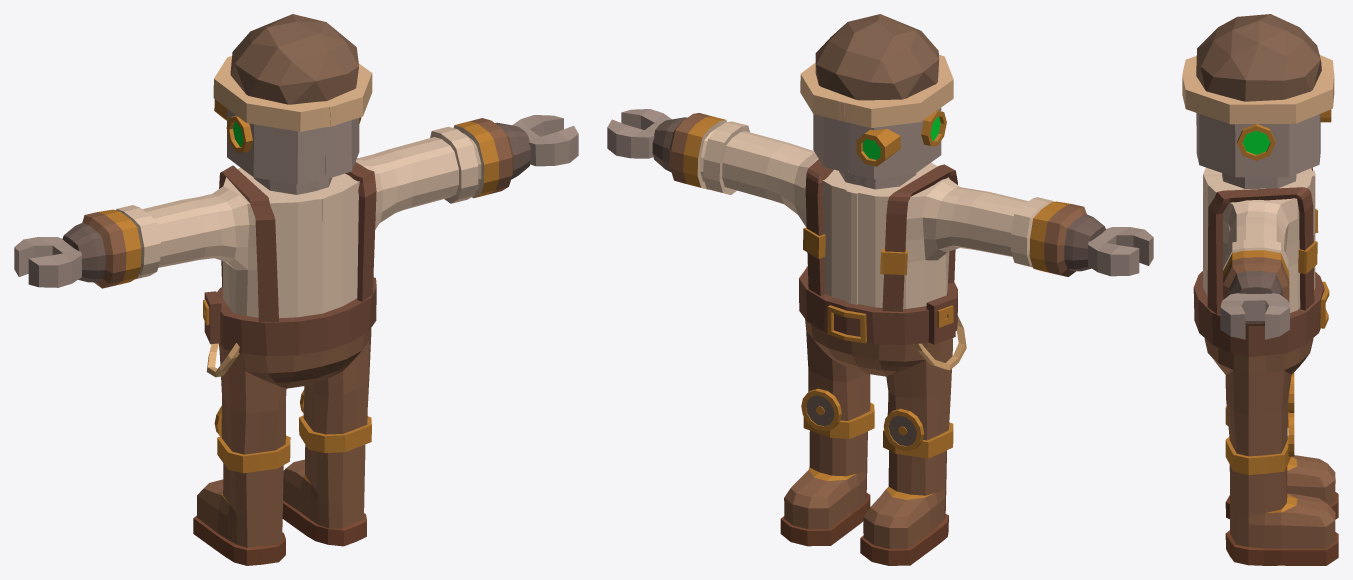
The model's file is EngineBotEST (2).fbx.
3 views of the same model, side by side, from view 1: azimuth 30°, elevation 25°; view 2: azimuth 150°, elevation 25°; view 3: azimuth 270°, elevation 25° (orthographic). The views are drawn at different scales.
Parts seen in each view (by area): view 1: Cube.010, Cube, Cube.008, Cube.003, Cube.009, Cube.011, Cube.006, Cube.005, Cube.004; view 2: Cube.010, Cube, Cube.008, Cube.003, Cube.009, Cube.011, Cube.006, Cube.002, Cube.005, Cube.004, Cylinder.003, Cube.001 (+1 smaller); view 3: Cube, Cube.010, Cube.003, Cube.008, Cube.009, Cube.011, Cube.006, Cube.005, Cylinder.001, Cube.002, Cylinder.002, Cube.013 (+1 smaller).
Part boxes in pixels (x1,y1,x2,y2): Cube.010: [14, 115, 578, 318]; Cube: [197, 328, 371, 547]; Cube.008: [217, 162, 376, 355]; Cube.003: [230, 14, 358, 104]; Cube.009: [227, 108, 359, 194]; Cube.011: [213, 56, 372, 131]; Cube.006: [193, 500, 366, 565]; Cube.005: [217, 415, 371, 473]; Cube.004: [203, 291, 221, 344]; Cube.010: [607, 109, 1153, 308]; Cube: [784, 319, 952, 548]; Cube.008: [799, 159, 957, 344]; Cube.003: [815, 14, 939, 100]; Cube.009: [813, 108, 941, 189]; Cube.011: [800, 55, 953, 127]; Cube.006: [780, 493, 948, 565]; Cube.002: [801, 388, 924, 451]; Cube.005: [803, 402, 953, 458]; Cube.004: [926, 295, 955, 344]; Cylinder.003: [856, 128, 900, 166]; Cube.001: [827, 305, 866, 343]; Cube: [1204, 338, 1335, 548]; Cube.010: [1203, 167, 1315, 339]; Cube.003: [1196, 14, 1321, 101]; Cube.008: [1193, 167, 1324, 356]; Cube.009: [1196, 113, 1320, 188]; Cube.011: [1182, 55, 1334, 124]; Cube.006: [1225, 492, 1338, 565]; Cube.005: [1225, 406, 1290, 474]; Cylinder.001: [1237, 124, 1275, 160]; Cube.002: [1288, 372, 1294, 456]; Cylinder.002: [1242, 130, 1270, 154]; Cube.013: [1298, 241, 1317, 274].
Size of the model in its own units: 607 by 554 by 153.
